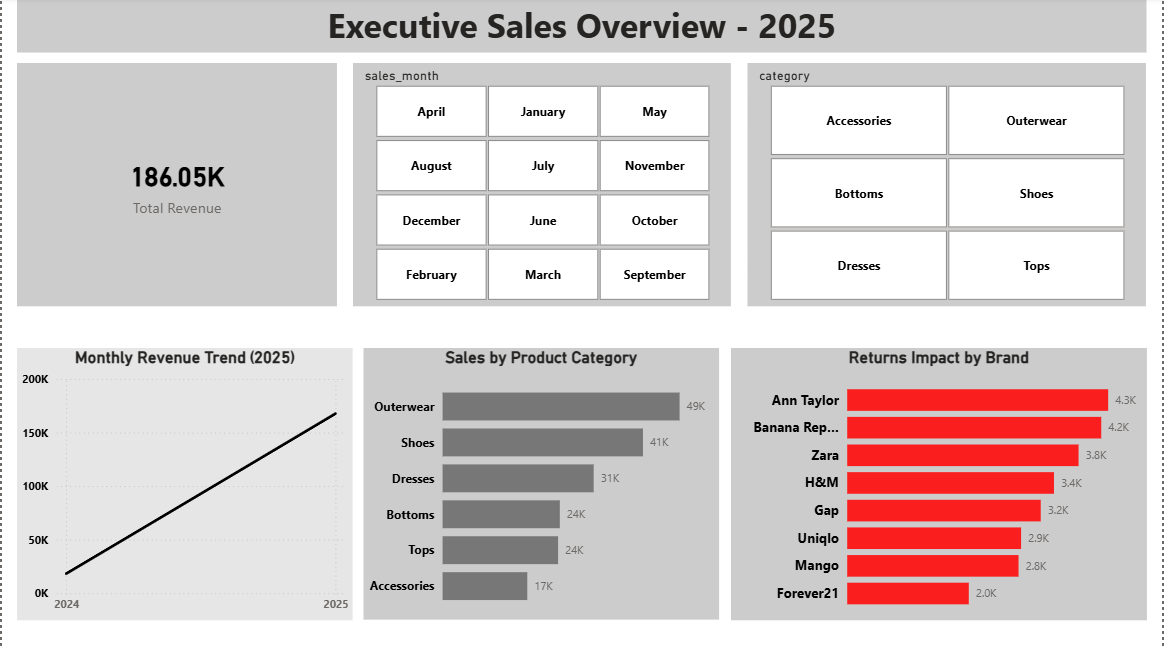

The page's visual inventory and layout, read from the dashboard file:
{"tool":"powerbi","page":{"name":"Page 1","canvas":[1280,720],"ordinal":0},"visuals":[{"type":"card","fields":{"Values":["Sum(Cleaned_Fashion_Data.current_price)"]},"box":[17,73.7,353.4,268.3],"z":0},{"type":"lineChart","title":"Monthly Revenue Trend (2025)","fields":{"Category":["Cleaned_Fashion_Data.purchase_date.Variation.Date Hierarchy.Year","Cleaned_Fashion_Data.purchase_date.Variation.Date Hierarchy.Quarter","Cleaned_Fashion_Data.purchase_date.Variation.Date Hierarchy.Month","Cleaned_Fashion_Data.purchase_date.Variation.Date Hierarchy.Day"],"Y":["Sum(Cleaned_Fashion_Data.current_price)"]},"box":[17,387.4,370.4,300.5],"z":1000},{"type":"clusteredBarChart","title":"Sales by Product Category","fields":{"Category":["Cleaned_Fashion_Data.category"],"Y":["Sum(Cleaned_Fashion_Data.current_price)"]},"box":[399.2,387.6,392.6,299.8],"z":2000},{"type":"clusteredBarChart","title":"Returns Impact by Brand","fields":{"Category":["Cleaned_Fashion_Data.brand"],"Y":["Sum(Cleaned_Fashion_Data.current_price)"]},"box":[805,387.4,459.2,300.5],"z":3000},{"type":"slicer","fields":{"Values":["Cleaned_Fashion_Data.sales_month"]},"box":[387.4,73.7,417.6,268.3],"z":4000},{"type":"slicer","fields":{"Values":["Cleaned_Fashion_Data.category"]},"box":[823.9,73.7,440.3,268.3],"z":5000},{"type":"textbox","box":[16.6,0,1247.3,61.3],"z":5001}]}

Visuals, with their boxes in screenshot pixels (x1, y1, x2, y2), scaled from the page's 1280x720 canvas onto the 1164x649 screenshot:
card - Sum(Cleaned_Fashion_Data.current_price): [x1=15, y1=66, x2=337, y2=308]
"Monthly Revenue Trend (2025)" lineChart: [x1=15, y1=349, x2=352, y2=620]
"Sales by Product Category" clusteredBarChart: [x1=363, y1=349, x2=720, y2=620]
"Returns Impact by Brand" clusteredBarChart: [x1=732, y1=349, x2=1150, y2=620]
slicer - Cleaned_Fashion_Data.sales_month: [x1=352, y1=66, x2=732, y2=308]
slicer - Cleaned_Fashion_Data.category: [x1=749, y1=66, x2=1150, y2=308]
textbox: [x1=15, y1=0, x2=1149, y2=55]
